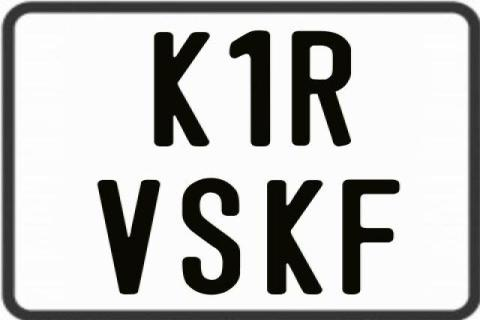0: (228, 28, 273, 148)
F: (342, 179, 400, 296)
K: (266, 178, 325, 294), (152, 30, 208, 144)
R: (292, 30, 351, 146)
S: (179, 177, 243, 299)
V: (96, 180, 160, 298)
